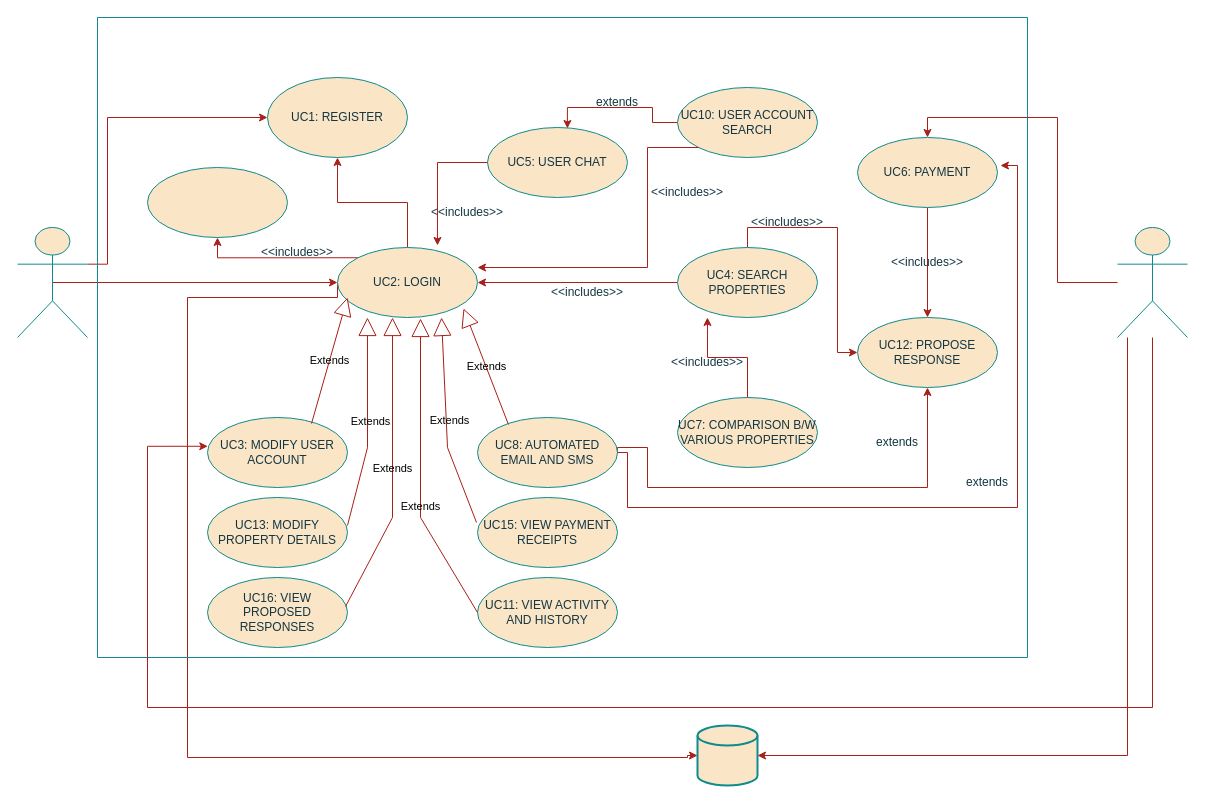
The diagram is 1205 pixels wide and 804 high, and some of its shapes have lost their labels. Here are the shapes that lost their labels. From the top down, the box of each, then its label:
(146, 166, 288, 238): UC17: ADD/REMOVE PROPERTY
(16, 226, 88, 338): user
(1116, 226, 1188, 338): ADMIN
(696, 724, 758, 786): DBMS
